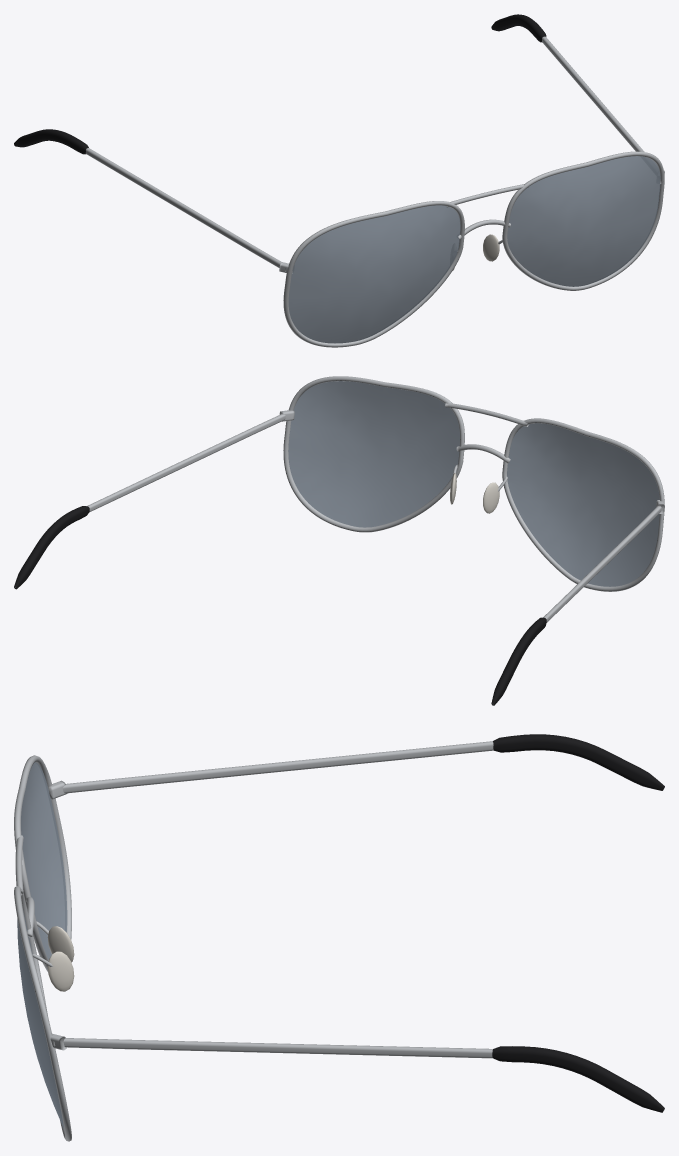
Rendered from aviator-silver.glb.
The picture shows the model from 3 angles, top to bottom: view 1: azimuth 30°, elevation 25°; view 2: azimuth 150°, elevation 25°; view 3: azimuth 270°, elevation 25°; orthographic projection. The views are drawn at different scales.
Visible parts, largest first — view 1: glasses; view 2: glasses; view 3: glasses.
Part boxes in pixels (x1,y1,x2,y2): glasses: (14,14,664,347); glasses: (14,376,664,705); glasses: (14,734,664,1141).
Bounding box in the file's own units: 0.1659 × 0.0468 × 0.1401.
2 materials, 1 textured.
